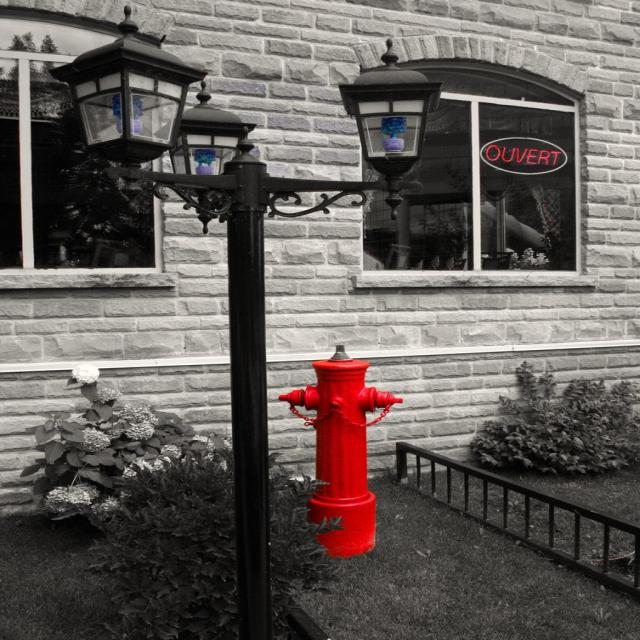fire_hydrant: (278, 346, 404, 558)
